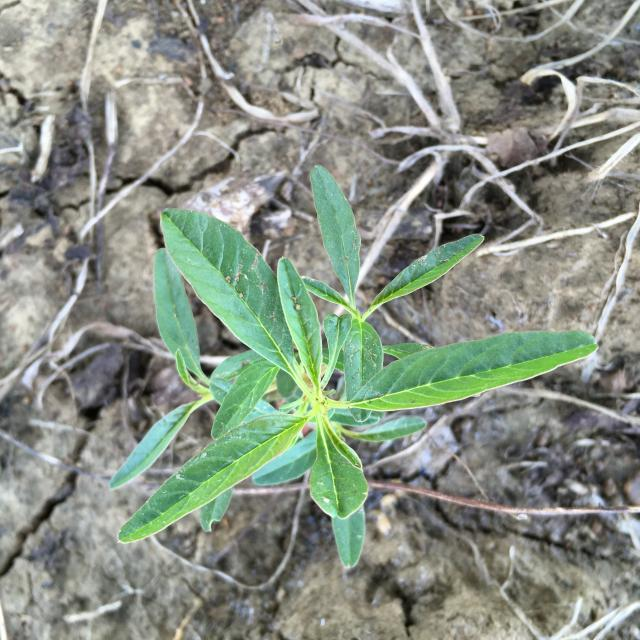Waterhemp: (109, 166, 600, 568)
